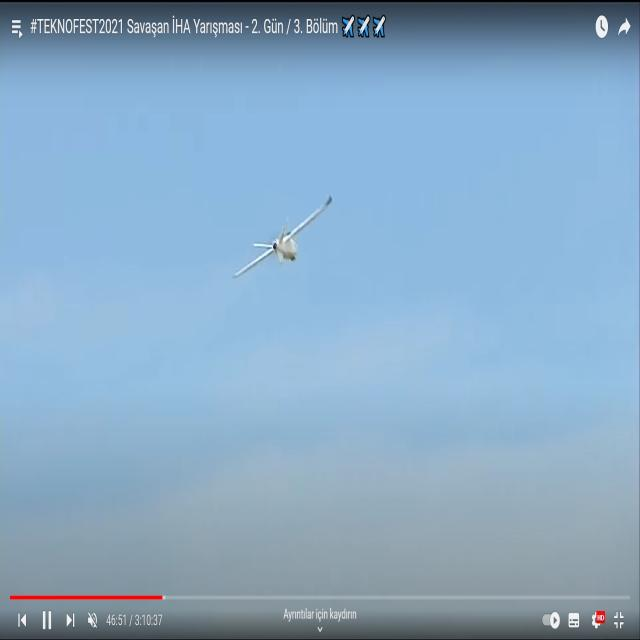iha: (266, 228, 301, 247)
